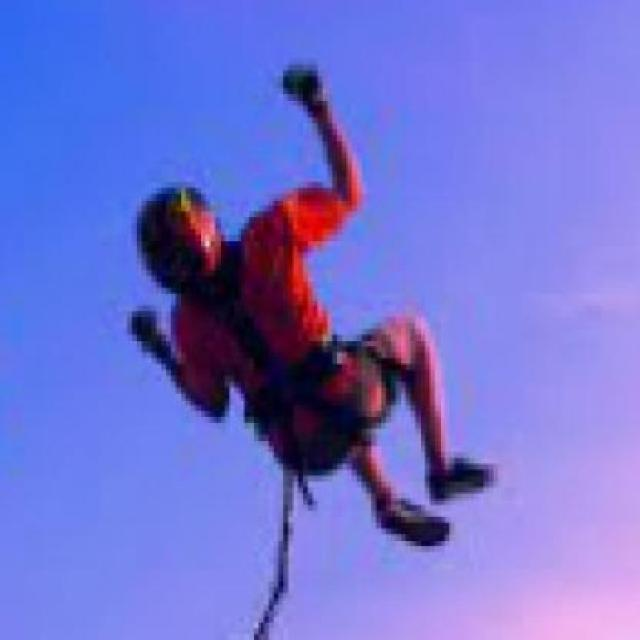fall: (117, 58, 511, 551)
